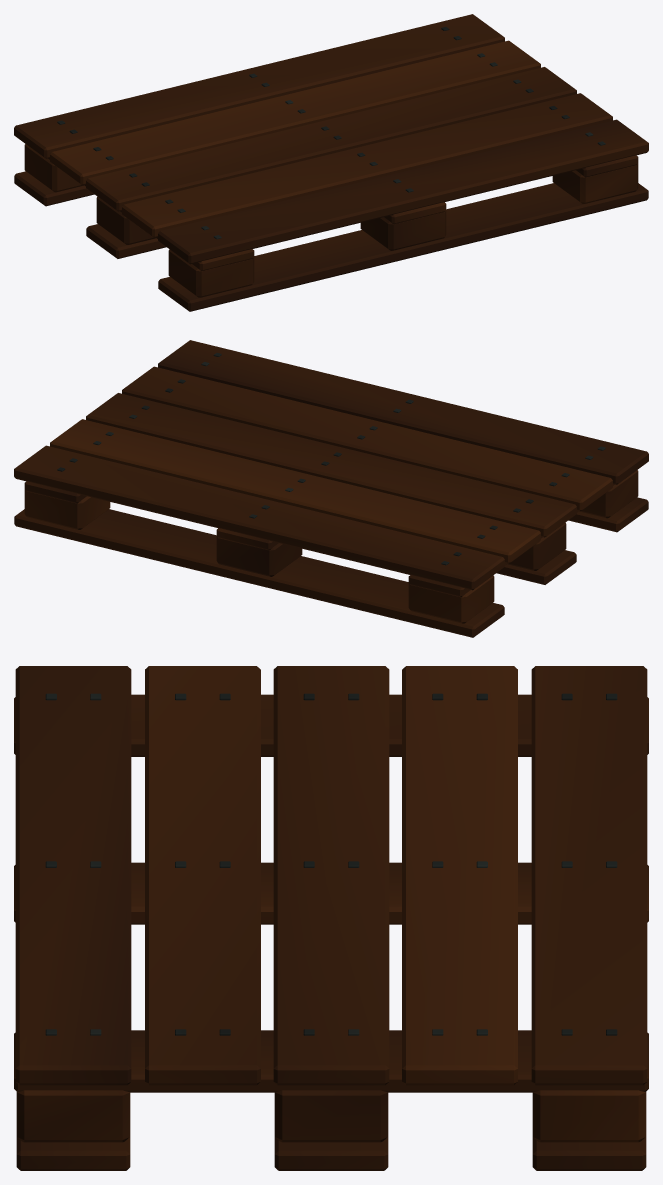
Rendered from MetalSteezy_Palette_Intacte.fbx.
3 views of the same model, one above another, from view 1: azimuth 30°, elevation 25°; view 2: azimuth 150°, elevation 25°; view 3: azimuth 270°, elevation 25° (orthographic). The views are drawn at different scales.
Parts seen in each view (by area): view 1: MetalSteezy_Palette_Intacte; view 2: MetalSteezy_Palette_Intacte; view 3: MetalSteezy_Palette_Intacte.
Part boxes in pixels (x1=…): MetalSteezy_Palette_Intacte: x1=14, y1=14, x2=648, y2=311; MetalSteezy_Palette_Intacte: x1=14, y1=340, x2=648, y2=637; MetalSteezy_Palette_Intacte: x1=14, y1=666, x2=648, y2=1170.
Size of the model in its own units: 1.56 by 1.04 by 0.195.
